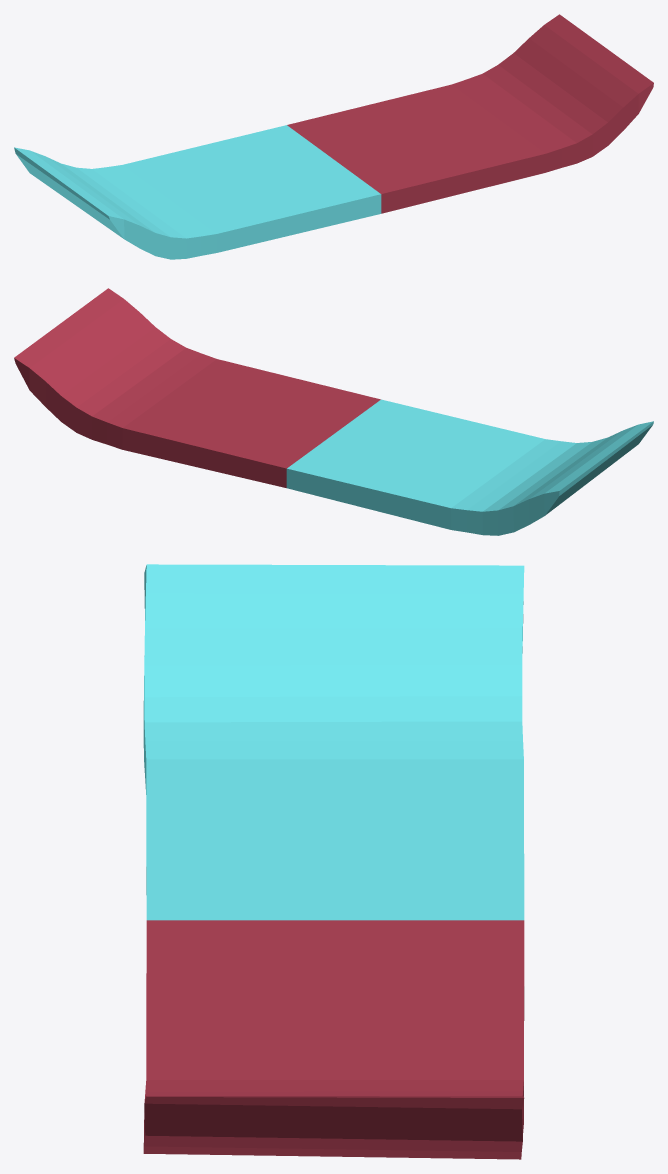
File: SnoubordMesh.fbx
The picture shows the model from 3 angles, top to bottom: view 1: azimuth 30°, elevation 25°; view 2: azimuth 150°, elevation 25°; view 3: azimuth 270°, elevation 25°; orthographic projection. The views are drawn at different scales.
Parts seen in each view (by area): view 1: Куб; view 2: Куб; view 3: Куб.
Part boxes in pixels (box(x1,y1,x2,y2)): Куб: box(14, 14, 653, 259); Куб: box(14, 288, 653, 535); Куб: box(143, 564, 524, 1159).
Size of the model in its own units: 101 by 38.69 by 334.
